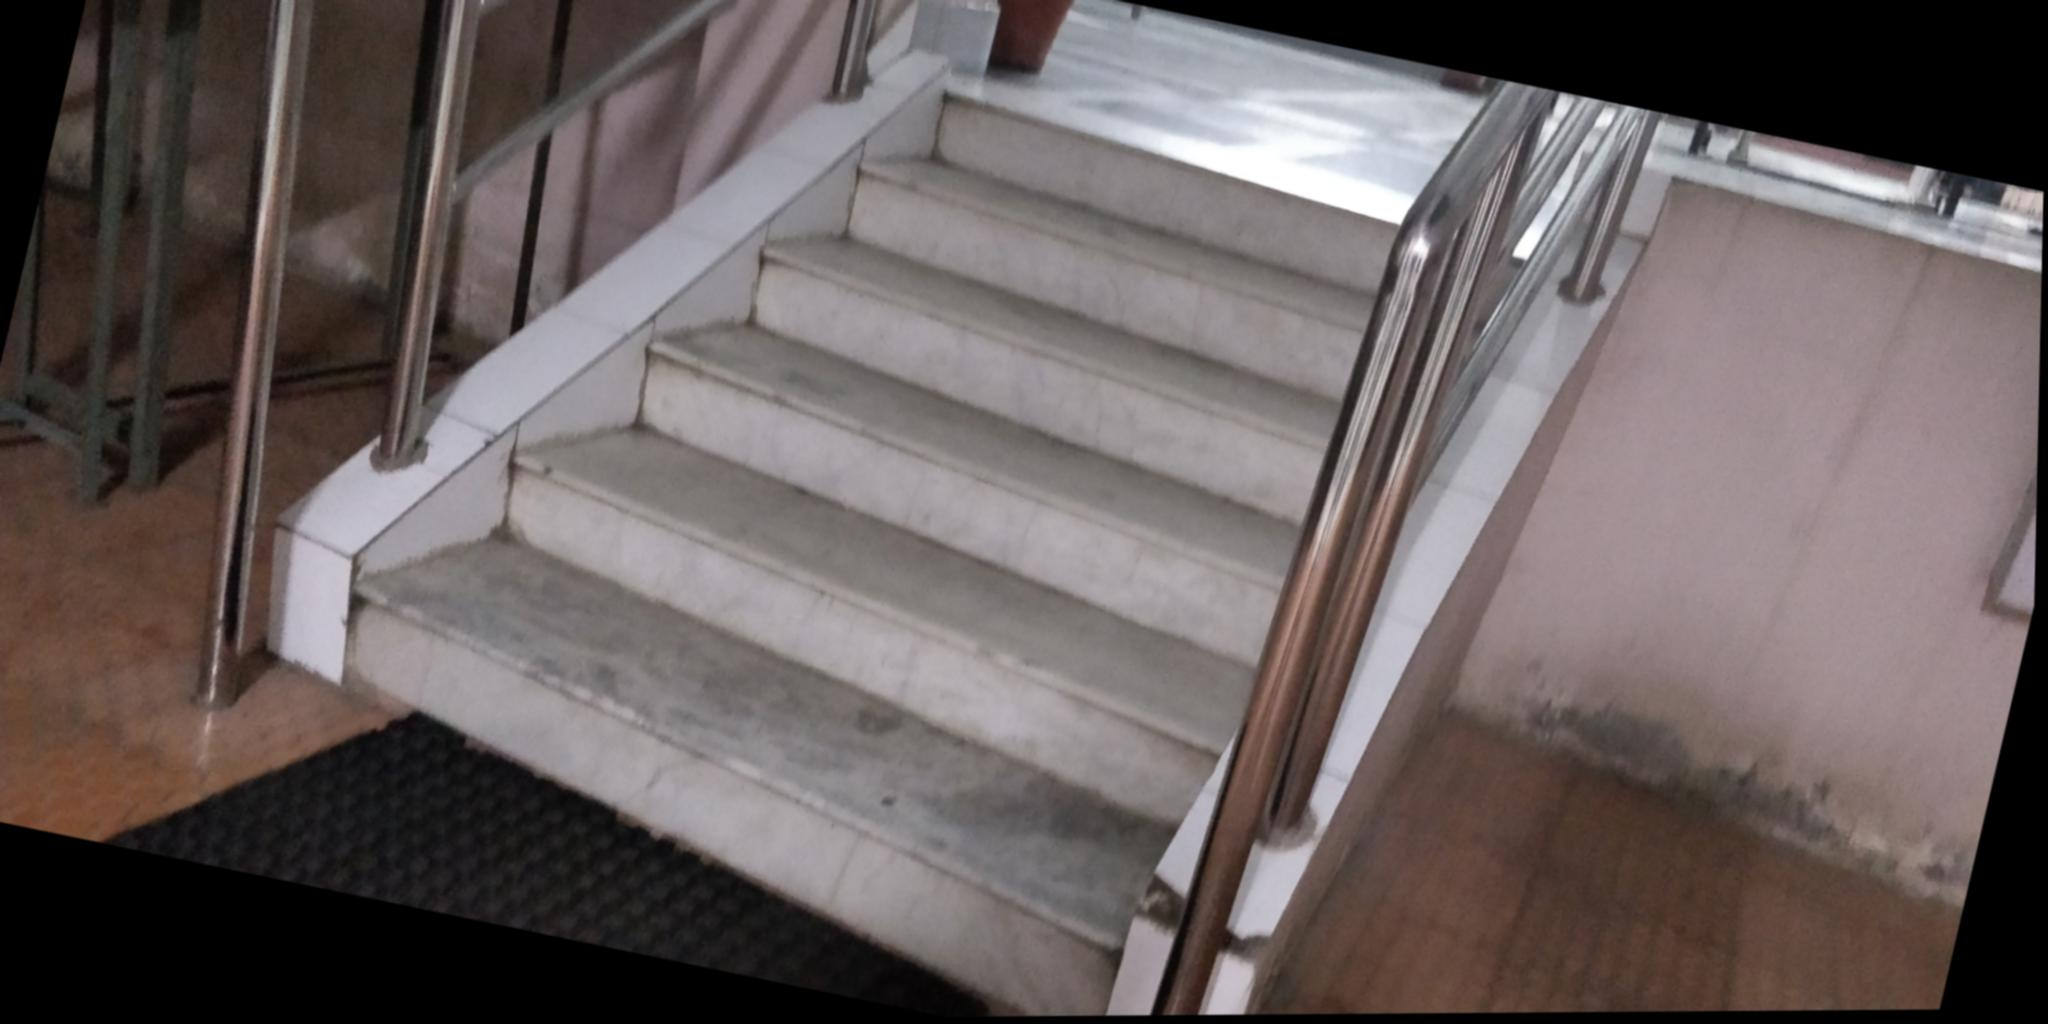Bench: (268, 0, 1432, 1023)
